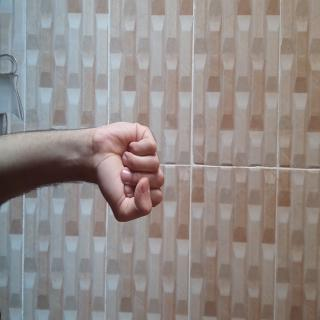SAD: (88, 201, 168, 316)
